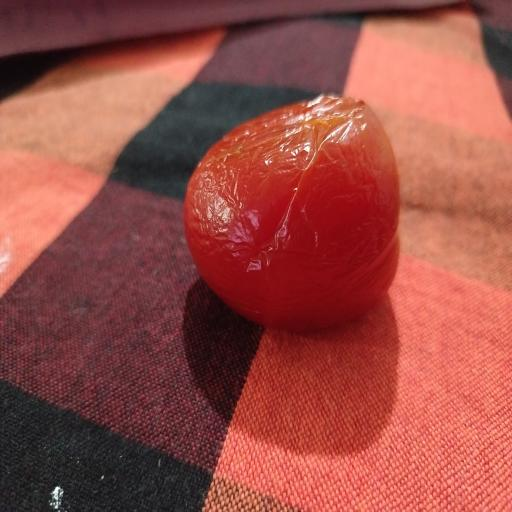spoiled: (184, 95, 399, 330)
